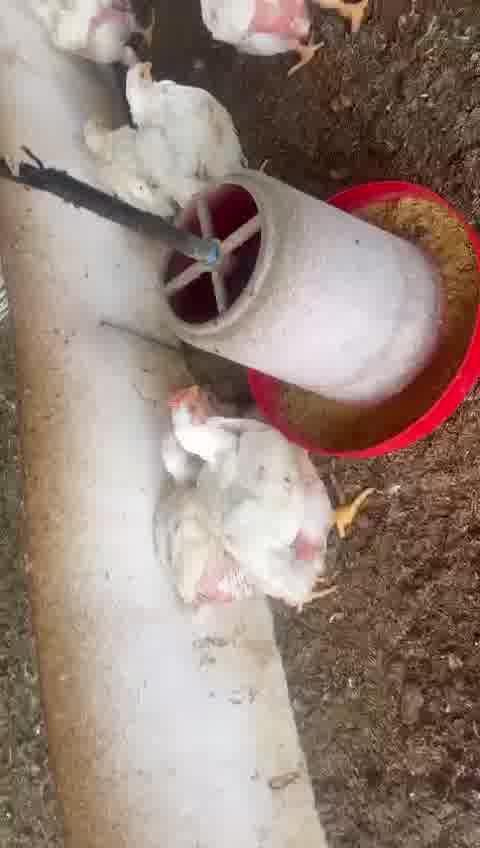AbNormal: (68, 115, 152, 210)
Normal: (175, 370, 380, 615), (100, 58, 260, 210), (128, 418, 228, 615)
